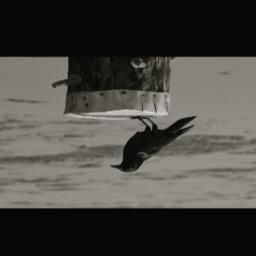Crow: (108, 113, 199, 175)
